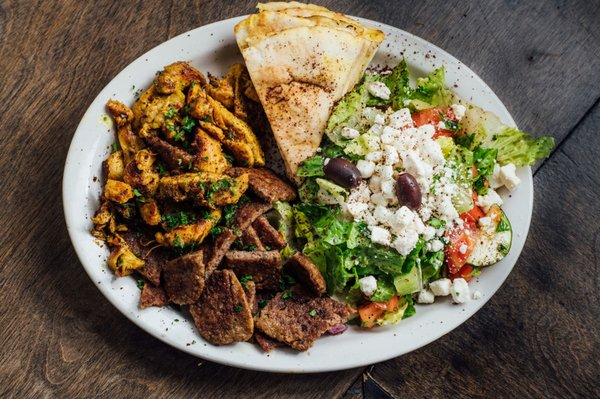curry: (0, 0, 593, 391)
